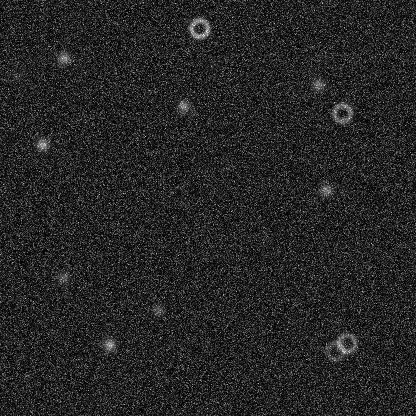Ring: (187, 16, 211, 40), (329, 101, 353, 125), (323, 338, 347, 362), (334, 331, 358, 355)
Spot: (149, 302, 165, 318), (317, 182, 333, 198), (101, 336, 117, 352), (310, 76, 326, 92), (55, 269, 71, 285), (8, 68, 24, 84), (34, 136, 50, 152), (175, 98, 191, 114), (55, 49, 71, 65)
